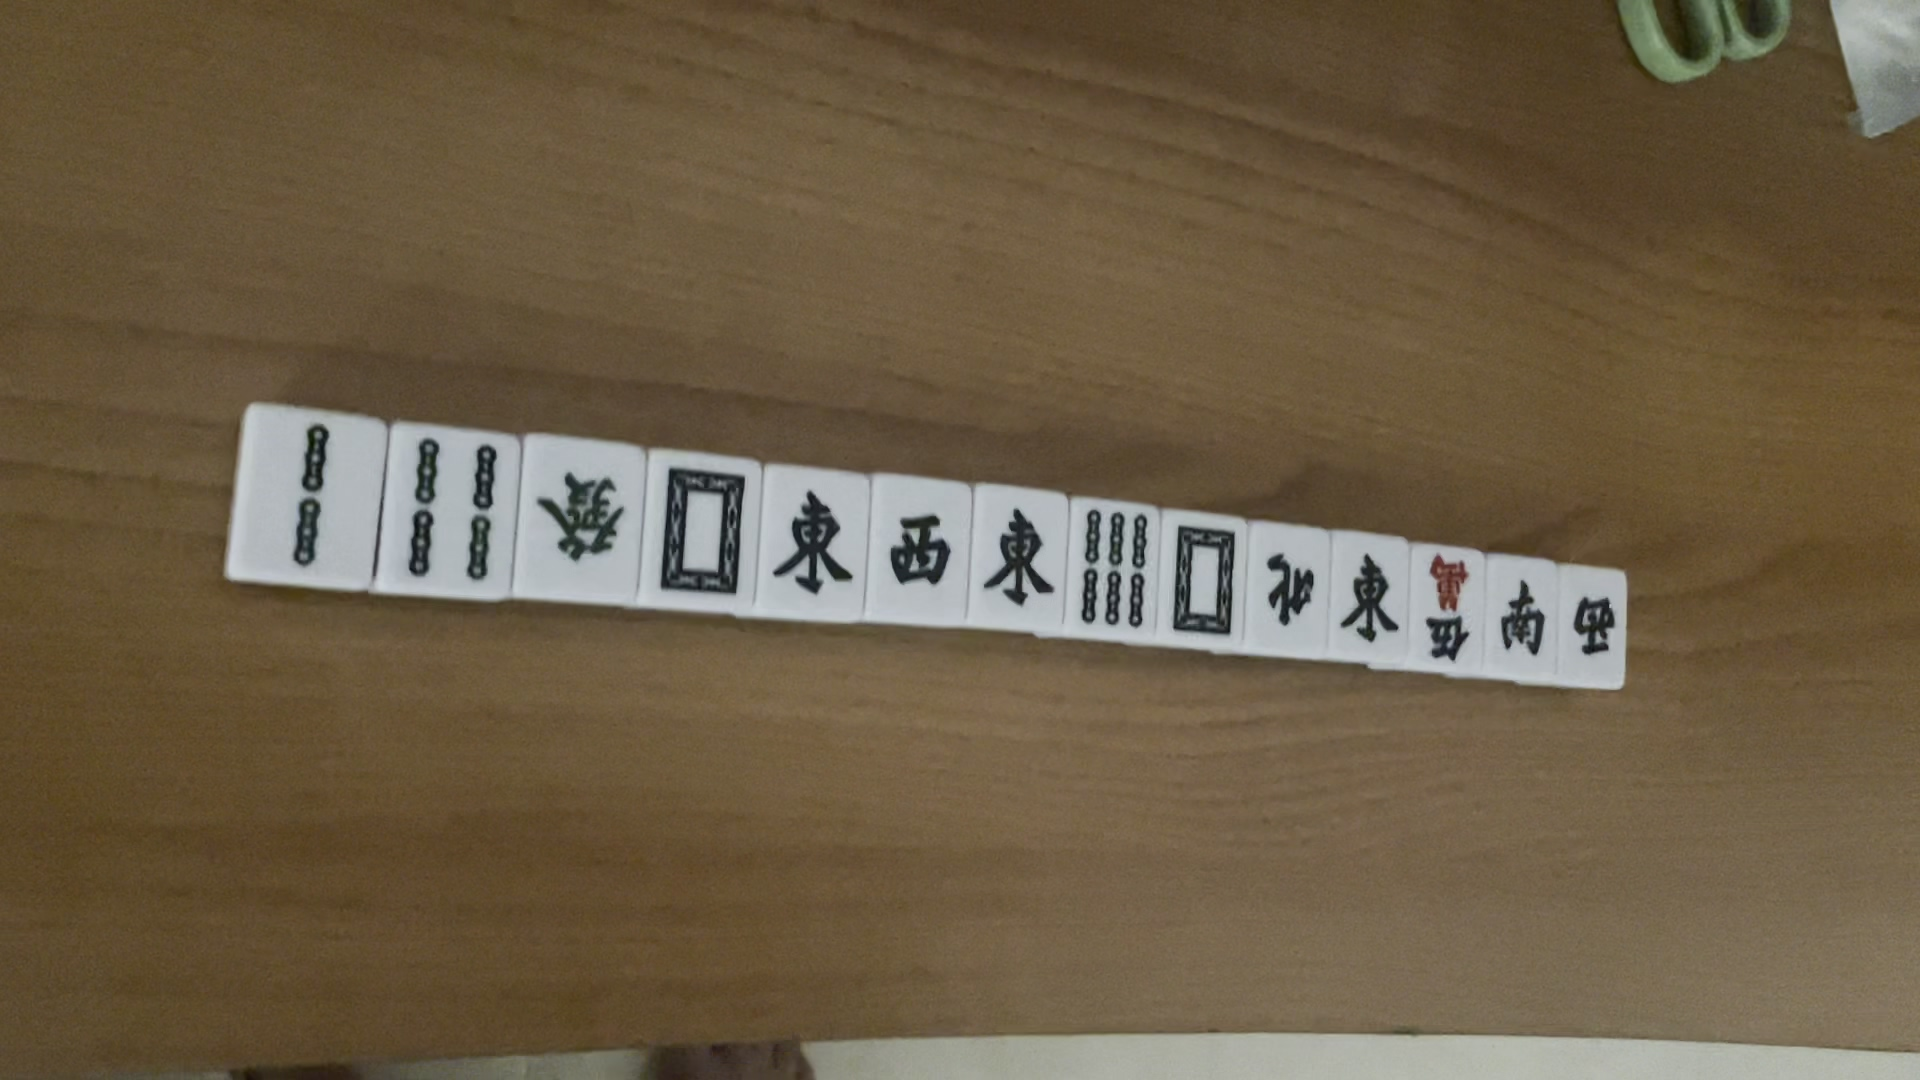b-2: (255, 419, 349, 575)
b-4: (404, 431, 506, 593)
b-6: (1073, 506, 1155, 637)
c-5: (1419, 553, 1476, 666)
honors-east: (771, 483, 852, 597), (977, 502, 1060, 612), (1336, 554, 1406, 647)
honors-green: (535, 465, 636, 585)
honors-north: (1258, 547, 1317, 630)
honors-south: (1491, 579, 1555, 662)
honors-west: (887, 508, 955, 593), (1561, 585, 1629, 662)
honors-white: (657, 464, 749, 605), (1167, 518, 1241, 641)
